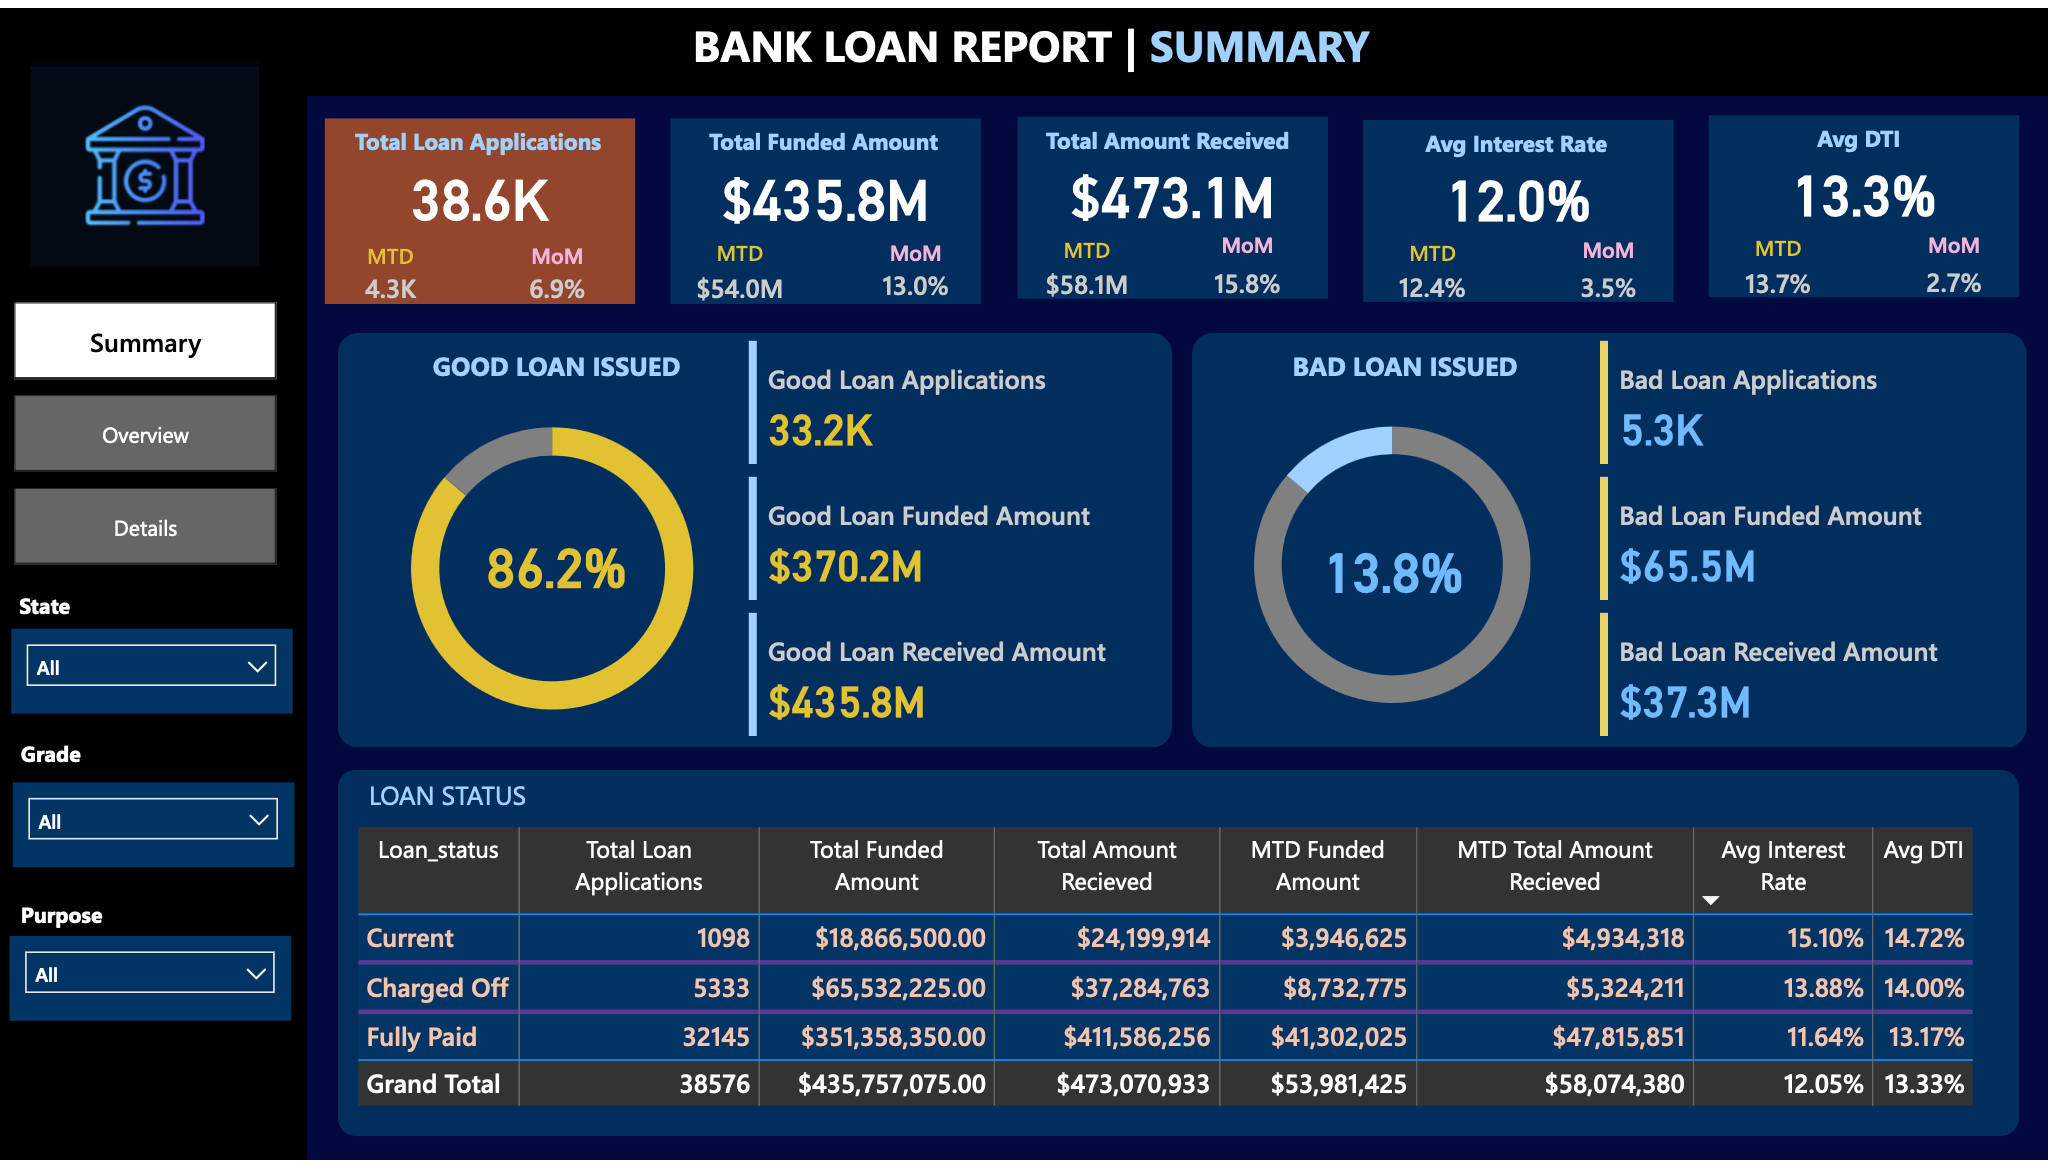

Layout of this report page (visuals, bound fields, positions):
{"tool":"powerbi","page":{"name":"Summary","canvas":[1280,720],"ordinal":0},"visuals":[{"type":"shape","box":[0,55.1,192,665],"z":0},{"type":"shape","box":[1068.1,66.7,194.3,113.7],"z":0,"group":"g5"},{"type":"shape","box":[635.8,68.2,194.3,113.7],"z":0,"group":"g3"},{"type":"shape","box":[203.1,68.8,194.4,116.4],"z":0,"group":"g1"},{"type":"shape","box":[419.5,68.8,194.4,116.4],"z":0,"group":"g2"},{"type":"shape","box":[852.1,69.8,194.3,113.7],"z":0,"group":"g4"},{"type":"shape","box":[0,0,1280,55],"z":1000},{"type":"card","fields":{"Values":["bank_loan_data.Avg DTI"]},"box":[1068.2,86.5,193.6,55],"z":1000,"group":"g5"},{"type":"card","fields":{"Values":["bank_loan_data.Total Amount Recieved"]},"box":[635.9,88,193.6,55],"z":1000,"group":"g3"},{"type":"card","fields":{"Values":["bank_loan_data.Total Loan Applications"]},"box":[203.2,89.1,193.8,56.2],"z":1000,"group":"g1"},{"type":"card","fields":{"Values":["bank_loan_data.Total Funded Amount"]},"box":[419.6,89.1,193.8,56.2],"z":1000,"group":"g2"},{"type":"card","fields":{"Values":["bank_loan_data.Avg Interest Rate"]},"box":[852.2,89.6,193.6,55],"z":1000,"group":"g4"},{"type":"textbox","box":[1065,66.7,197.4,31.4],"z":2000,"group":"g5"},{"type":"textbox","box":[632.7,68.2,197.4,31.4],"z":2000,"group":"g3"},{"type":"textbox","box":[200,68.8,197.5,32.2],"z":2000,"group":"g1"},{"type":"textbox","box":[416.4,68.8,197.5,32.2],"z":2000,"group":"g2"},{"type":"textbox","box":[849,69.8,197.4,31.4],"z":2000,"group":"g4"},{"type":"shape","box":[210.8,203.2,521.7,259.3],"z":2000},{"type":"card","title":"MTD","fields":{"Values":["bank_loan_data.MTD Avg DTI"]},"box":[1076.6,140.3,68.7,47.6],"z":3000,"group":"g5"},{"type":"card","title":"MTD","fields":{"Values":["bank_loan_data.MTD Total Amount Recieved"]},"box":[644.3,141.8,68.7,47.6],"z":3000,"group":"g3"},{"type":"card","title":"MTD","fields":{"Values":["bank_loan_data.MTD Avg Int Rate"]},"box":[860.6,143.4,68.7,47.6],"z":3000,"group":"g4"},{"type":"card","title":"MTD","fields":{"Values":["bank_loan_data.MTD Funded Amount"]},"box":[428,144.1,68.8,48.8],"z":3000,"group":"g2"},{"type":"card","title":"MTD","fields":{"Values":["bank_loan_data.MTD Loan Applications"]},"box":[219.4,145.3,50,45],"z":3000,"group":"g1"},{"type":"shape","box":[210.8,476.2,1051,229],"z":3000},{"type":"card","title":"MoM","fields":{"Values":["bank_loan_data.MoM Avg DTI"]},"box":[1194,138.6,54.6,51.6],"z":4000,"group":"g5"},{"type":"card","title":"MoM","fields":{"Values":["bank_loan_data.MoM Total Amount Recieved"]},"box":[743.1,139.5,73.3,51.7],"z":4000,"group":"g3"},{"type":"card","title":"MoM","fields":{"Values":["bank_loan_data.MoM Avg Int Rate"]},"box":[978,141.7,54.6,51.6],"z":4000,"group":"g4"},{"type":"card","title":"MoM","fields":{"Values":["bank_loan_data.MoM Total Funded Amount"]},"box":[539.1,144.2,66.7,45],"z":4000,"group":"g2"},{"type":"card","title":"MoM","fields":{"Values":["bank_loan_data.MoM Loan Application"]},"box":[324.4,145.3,48.8,45],"z":4000,"group":"g1"},{"type":"card","fields":{"Values":["bank_loan_data.Good Loan %"]},"box":[280.6,320,133.5,54.6],"z":4000},{"type":"textbox","box":[188.1,476.2,183.5,31.8],"z":5000},{"type":"shape","box":[0,0,1280,55],"z":6000},{"type":"textbox","box":[428.3,0,451.7,60],"z":7000},{"type":"group","id":"g1","title":"Group 1","box":[200,68.8,197.5,121.2],"z":8000},{"type":"group","id":"g2","title":"Group 1","box":[416.4,68.8,197.5,124.1],"z":9000},{"type":"group","id":"g3","title":"Group 1","box":[632.7,68.2,197.4,122.9],"z":10000},{"type":"group","id":"g4","title":"Group 1","box":[849,69.8,197.2,122.8],"z":11000},{"type":"group","id":"g5","title":"Group 1","box":[1065,66.7,196.7,123.3],"z":12000},{"type":"donutChart","fields":{"Category":["bank_loan_data.Good v Bad Loan"],"Y":["bank_loan_data.Total Loan Applications"]},"box":[219.9,235.1,250.2,230.5],"z":13000},{"type":"shape","box":[744.6,203.2,521.7,259.3],"z":14000},{"type":"cardVisual","fields":{"Data":["bank_loan_data.Good Loan Applications","bank_loan_data.Good Loan Funded Amount","bank_loan_data.Good Loan Received Amount"]},"box":[462.6,203.2,268.4,257.8],"z":15000},{"type":"donutChart","fields":{"Category":["bank_loan_data.Good v Bad Loan"],"Y":["bank_loan_data.Total Loan Applications"]},"box":[744.6,235.1,250.2,226],"z":16000},{"type":"textbox","box":[778,207.8,200.2,34.9],"z":17000},{"type":"card","fields":{"Values":["bank_loan_data.Bad Loan %"]},"box":[803.8,326.1,133.5,48.5],"z":18000},{"type":"cardVisual","fields":{"Data":["bank_loan_data.Bad Loan Applications","bank_loan_data.Bad Loan Funded Amount","bank_loan_data.Bad Loan Received Amount"]},"box":[994.9,203.2,268.4,257.8],"z":19000},{"type":"tableEx","fields":{"Values":["bank_loan_data.loan_status","bank_loan_data.Total Loan Applications","bank_loan_data.Total Funded Amount","bank_loan_data.Total Amount Recieved","bank_loan_data.MTD Funded Amount","bank_loan_data.MTD Total Amount Recieved","bank_loan_data.Avg Interest Rate","bank_loan_data.Avg DTI"]},"box":[218.4,506.5,1043.4,198.7],"z":20000},{"type":"textbox","box":[247.2,207.8,201.7,31.8],"z":21000},{"type":"slicer","fields":{"Values":["bank_loan_data.address_state"]},"box":[7.1,388.2,175.9,53.1],"z":22000},{"type":"textbox","box":[7.1,360,61.2,36.5],"z":23000},{"type":"slicer","fields":{"Values":["bank_loan_data.grade"]},"box":[7.6,484.1,175.9,53.1],"z":24000},{"type":"textbox","box":[8.3,451.7,60,31.7],"z":25000},{"type":"slicer","fields":{"Values":["bank_loan_data.purpose"]},"box":[6.2,580,176.2,52.5],"z":26000},{"type":"textbox","box":[8.3,553.3,88.3,36.7],"z":27000},{"type":"image","box":[14.3,25.7,152.9,141.4],"z":28000},{"type":"pageNavigator","box":[8.6,184.3,164.3,165.7],"z":29000}]}

Visuals, with their boxes in screenshot pixels (x1, y1, x2, y2), scaled from the page's 1280x720 canvas onto the 2048x1168 screenshot:
shape: 0/89/307/1167
shape: 1709/108/2020/293
shape: 1017/111/1328/295
shape: 325/112/636/300
shape: 671/112/982/300
shape: 1363/113/1674/298
shape: 0/0/2047/89
card - bank_loan_data.Avg DTI: 1709/140/2019/230
card - bank_loan_data.Total Amount Recieved: 1017/143/1327/232
card - bank_loan_data.Total Loan Applications: 325/145/635/236
card - bank_loan_data.Total Funded Amount: 671/145/981/236
card - bank_loan_data.Avg Interest Rate: 1364/145/1673/235
textbox: 1704/108/2020/159
textbox: 1012/111/1328/162
textbox: 320/112/636/164
textbox: 666/112/982/164
textbox: 1358/113/1674/164
shape: 337/330/1172/750
"MTD" card: 1723/228/1832/305
"MTD" card: 1031/230/1141/307
"MTD" card: 1377/233/1487/310
"MTD" card: 685/234/795/313
"MTD" card: 351/236/431/309
shape: 337/773/2019/1144
"MoM" card: 1910/225/1998/309
"MoM" card: 1189/226/1306/310
"MoM" card: 1565/230/1652/314
"MoM" card: 863/234/969/307
"MoM" card: 519/236/597/309
card - bank_loan_data.Good Loan %: 449/519/663/608
textbox: 301/773/595/824
shape: 0/0/2047/89
textbox: 685/0/1408/97
"Group 1" group: 320/112/636/308
"Group 1" group: 666/112/982/313
"Group 1" group: 1012/111/1328/310
"Group 1" group: 1358/113/1674/312
"Group 1" group: 1704/108/2019/308
donutChart - bank_loan_data.Good v Bad Loan x bank_loan_data.Total Loan Applications: 352/381/752/755
shape: 1191/330/2026/750
cardVisual - bank_loan_data.Good Loan Applications x bank_loan_data.Good Loan Funded Amount: 740/330/1170/748
donutChart - bank_loan_data.Good v Bad Loan x bank_loan_data.Total Loan Applications: 1191/381/1592/748
textbox: 1245/337/1565/394
card - bank_loan_data.Bad Loan %: 1286/529/1500/608
cardVisual - bank_loan_data.Bad Loan Applications x bank_loan_data.Bad Loan Funded Amount: 1592/330/2021/748
tableEx - bank_loan_data.loan_status x bank_loan_data.Total Loan Applications: 349/822/2019/1144
textbox: 396/337/718/389
slicer - bank_loan_data.address_state: 11/630/293/716
textbox: 11/584/109/643
slicer - bank_loan_data.grade: 12/785/294/871
textbox: 13/733/109/784
slicer - bank_loan_data.purpose: 10/941/292/1026
textbox: 13/898/155/957
image: 23/42/268/271
pageNavigator: 14/299/277/568
